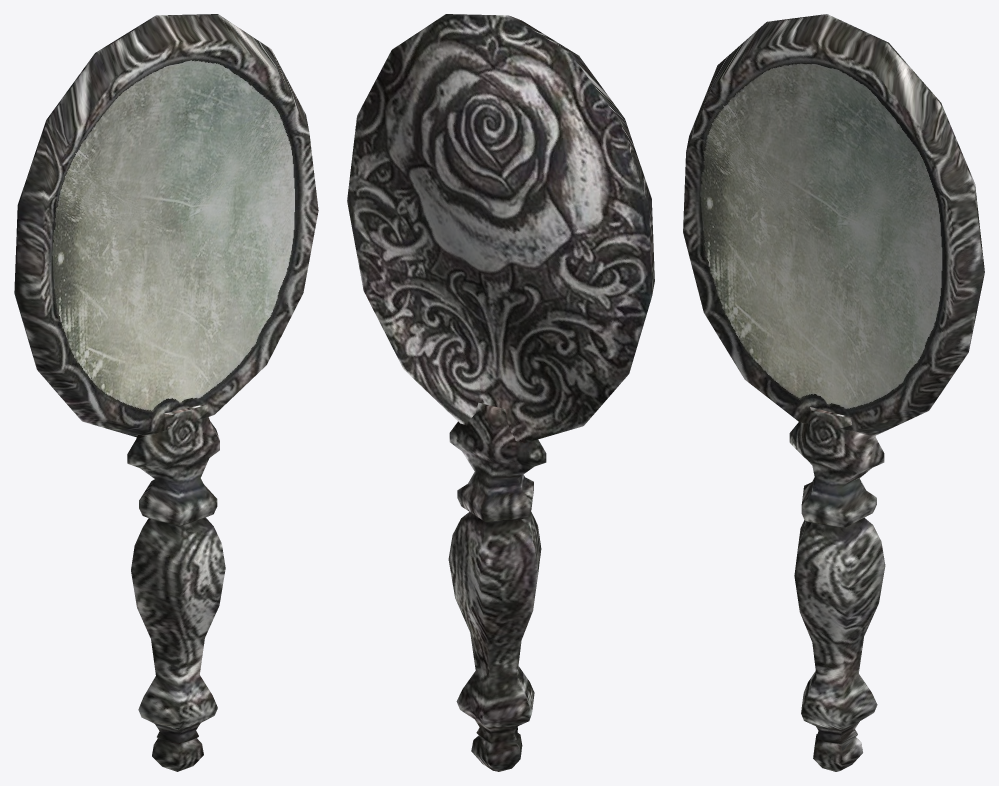
Rendered from obj_silver_handmirror_4db73a.glb.
The picture shows the model from 3 angles, left to right: view 1: azimuth 30°, elevation 25°; view 2: azimuth 150°, elevation 25°; view 3: azimuth 330°, elevation 25°; orthographic projection.
Visible parts, largest first — view 1: obj_silver_handmirror_4db73a; view 2: obj_silver_handmirror_4db73a; view 3: obj_silver_handmirror_4db73a.
Boxes of the visible parts, bbox=[...] form: obj_silver_handmirror_4db73a: bbox=[14, 14, 318, 771]; obj_silver_handmirror_4db73a: bbox=[347, 14, 654, 771]; obj_silver_handmirror_4db73a: bbox=[683, 14, 984, 771].
Size of the model in its own units: 0.4163 by 1 by 0.1125.
1 material, 1 textured.
